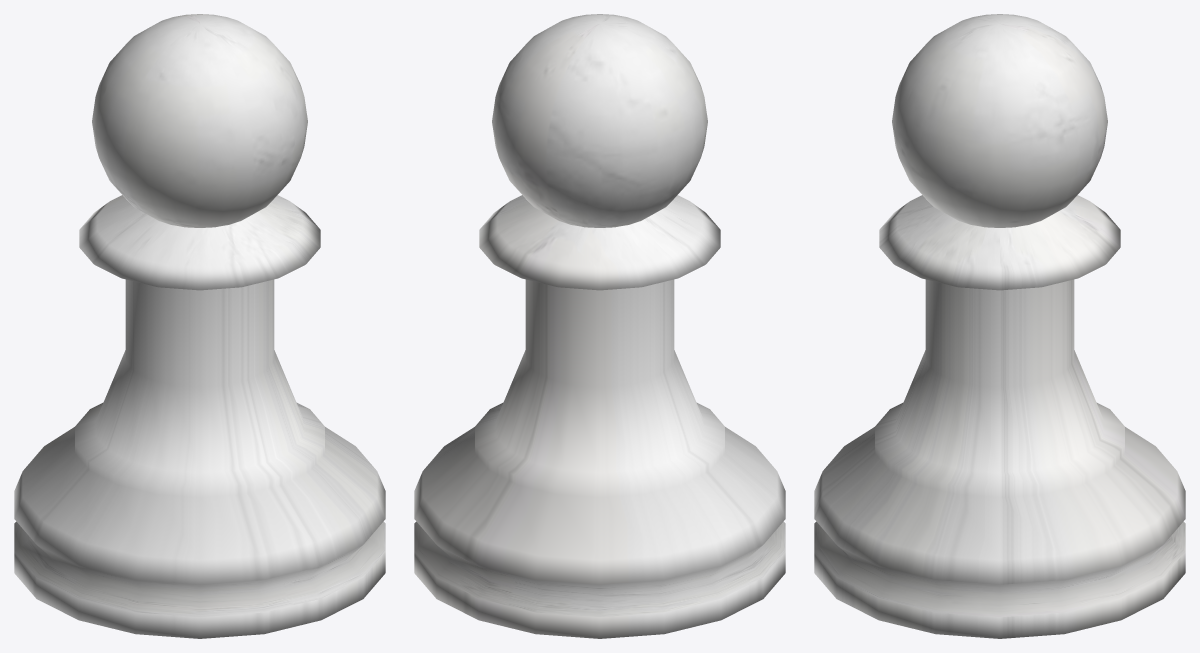
The model's file is w-pawn-stone.gltf.
3 views of the same model, side by side, from view 1: azimuth 30°, elevation 25°; view 2: azimuth 150°, elevation 25°; view 3: azimuth 270°, elevation 25° (orthographic).
Visible parts, largest first — view 1: W_Pawn; view 2: W_Pawn; view 3: W_Pawn.
Boxes of the visible parts, left/top/right/bottom form: W_Pawn: left=14, top=14, right=385, bottom=638; W_Pawn: left=414, top=14, right=785, bottom=638; W_Pawn: left=814, top=14, right=1185, bottom=638.
Size of the model in its own units: 49.35 by 79.41 by 48.6.
Materials: 1 (1 with a texture image).
